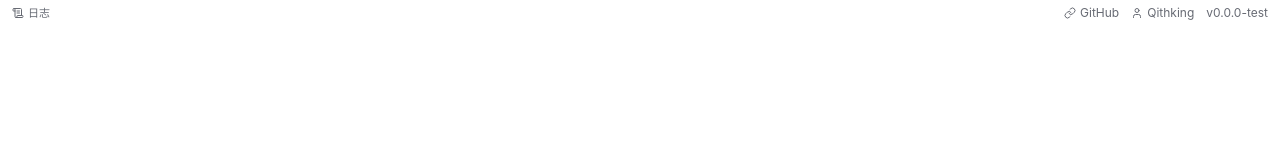
Scenario: StatusBar viewLogsTooltip 快捷键正确性 › 默认快捷键 + Windows 平台 → 显示 Ctrl+Shift+Y
This screenshot has width=1280, height=160.
Focus the element with test id "statusbar-log-button": (31, 13) x1=12 y1=5 x2=50 y2=21
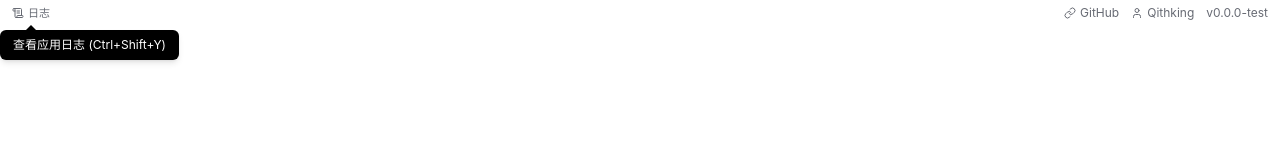
Check: the tooltip shows "Ctrl+Shift+Y", box x1=13 y1=37 x2=166 y2=52
